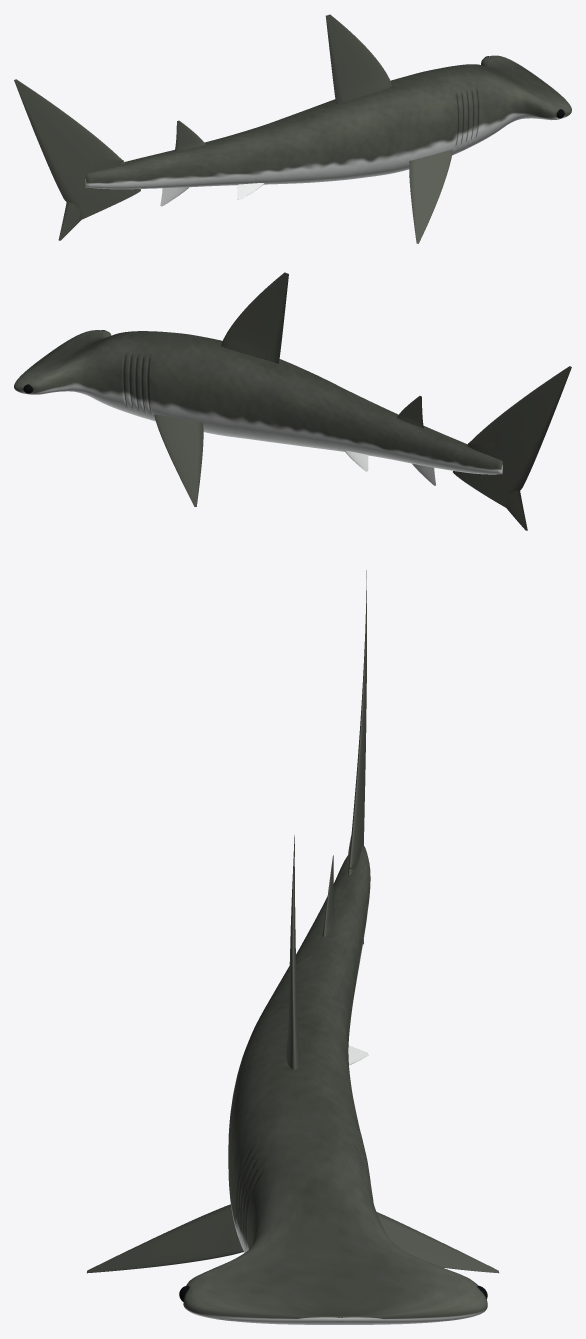
The model's file is great_hammerhead.glb.
3 views of the same model, one above another, from view 1: azimuth 30°, elevation 25°; view 2: azimuth 150°, elevation 25°; view 3: azimuth 270°, elevation 25° (orthographic). The views are drawn at different scales.
Parts seen in each view (by area): view 1: GreatHammerhead_Body, GreatHammerhead_Fins; view 2: GreatHammerhead_Body, GreatHammerhead_Fins; view 3: GreatHammerhead_Body, GreatHammerhead_Fins.
Part boxes in pixels (x1,y1,x2,y2): GreatHammerhead_Body: [85, 55, 571, 189]; GreatHammerhead_Fins: [14, 14, 452, 243]; GreatHammerhead_Body: [14, 330, 502, 474]; GreatHammerhead_Fins: [154, 272, 571, 530]; GreatHammerhead_Body: [183, 844, 487, 1324]; GreatHammerhead_Fins: [87, 570, 498, 1273].
Size of the model in its own units: 4.2 by 1.54 by 1.44.
3 materials, 1 textured.
